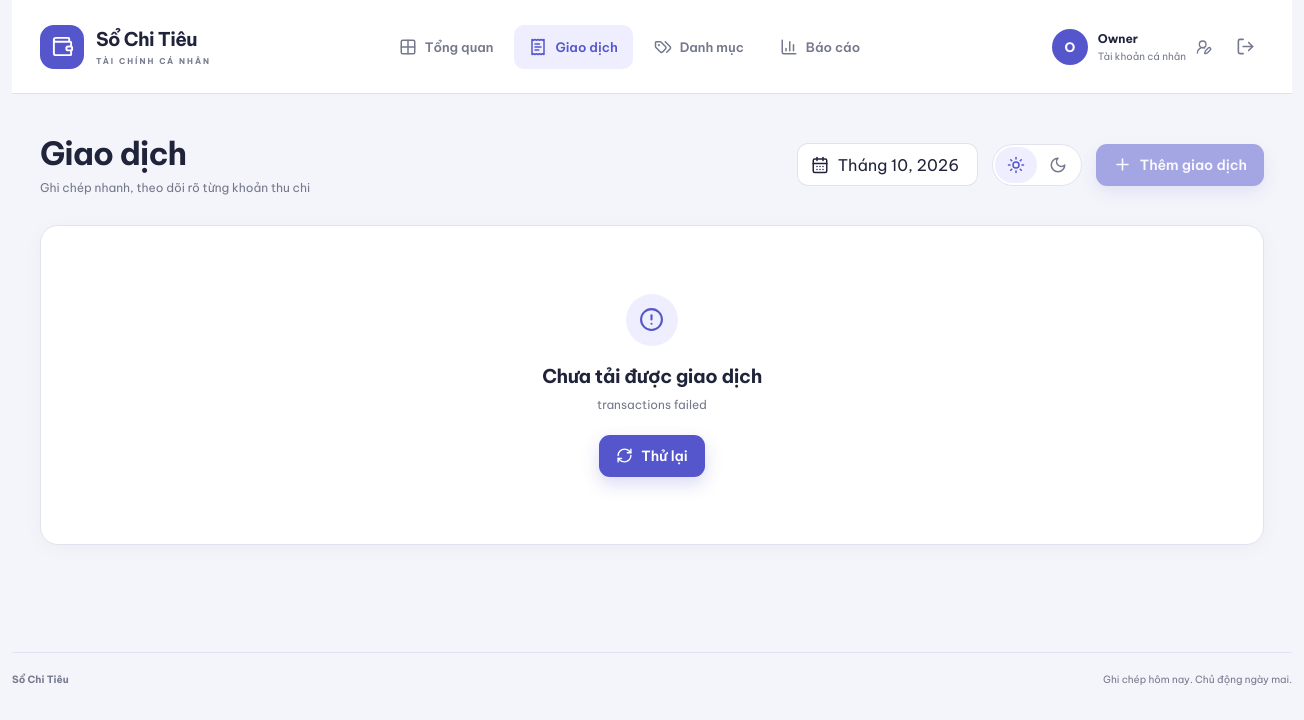
Test: application route smoke tests › shows and retries transaction load errors
Expected: the message shows "transactions failed", 597,397 -> 707,412
Click the button "Thử lại".
click(652, 456)  # box 599,435 -> 705,477
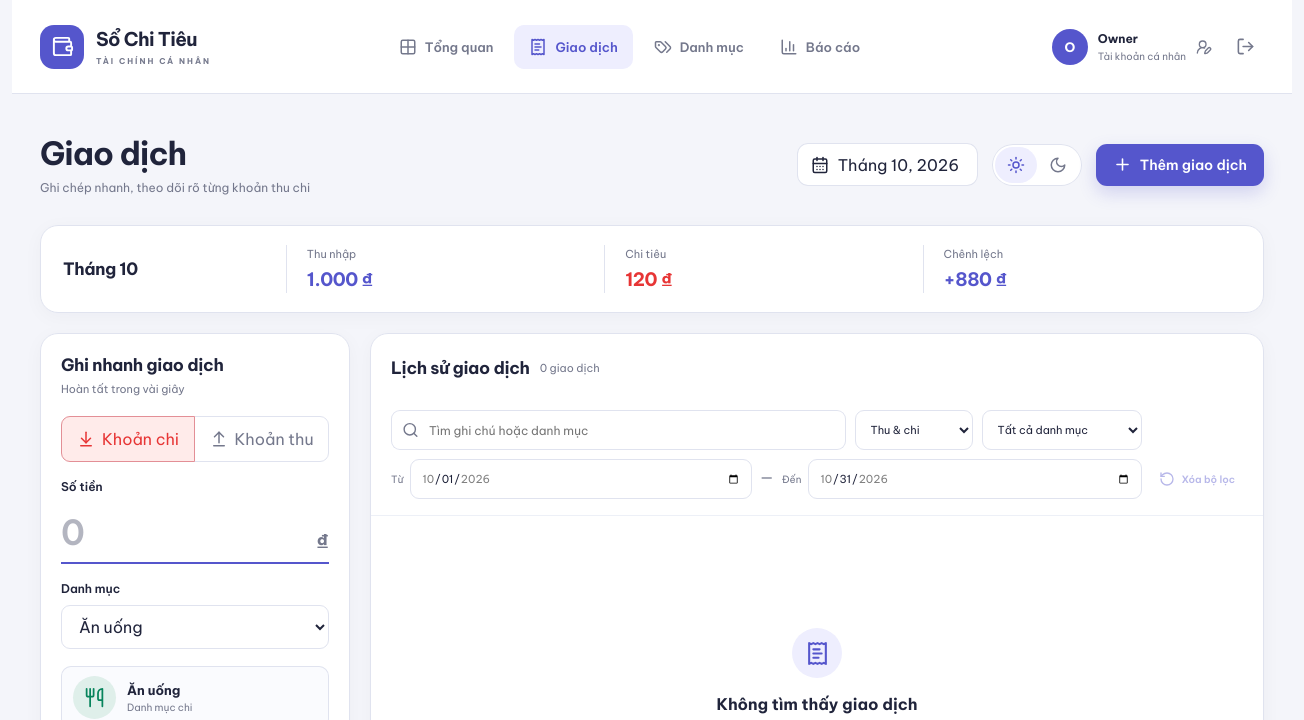
Expected: the message "Chưa tải được giao dịch transactions failed Thử lại" is gone
